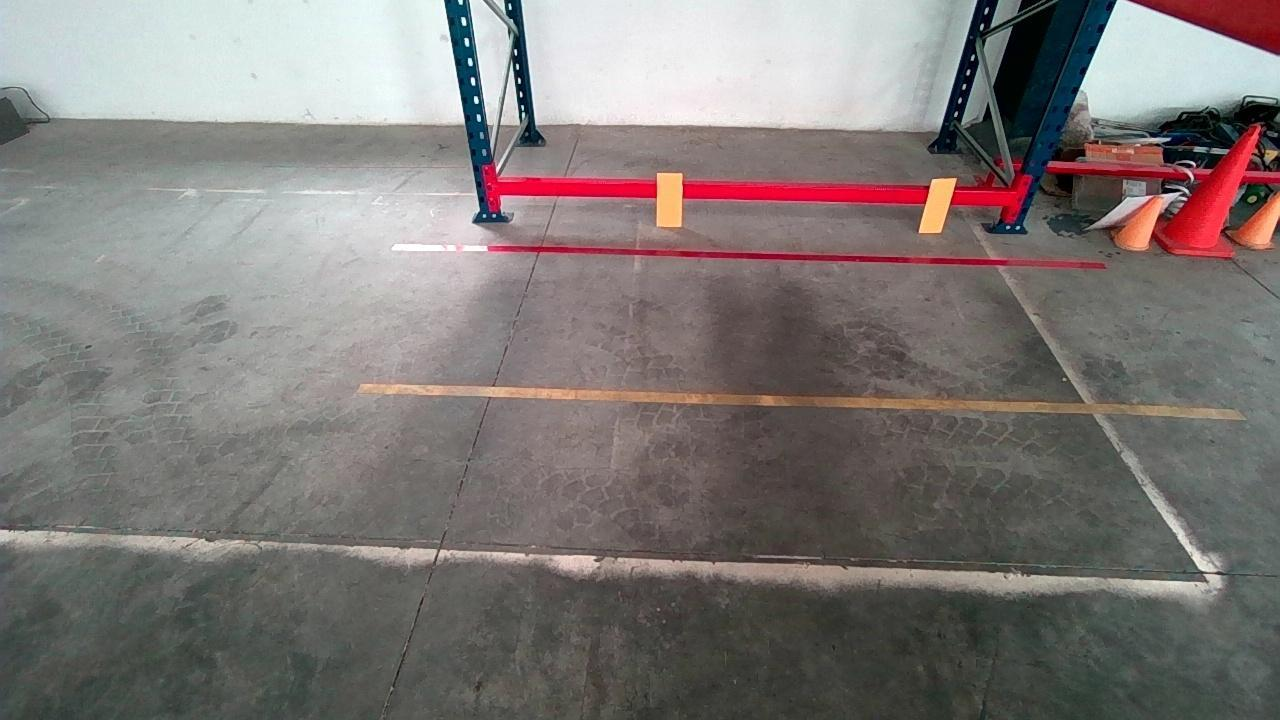orange_strip: (493, 181, 1015, 207), (920, 177, 957, 231), (656, 171, 684, 226)
red_line: (391, 240, 1107, 271)
yellow_line: (354, 380, 1247, 420)
